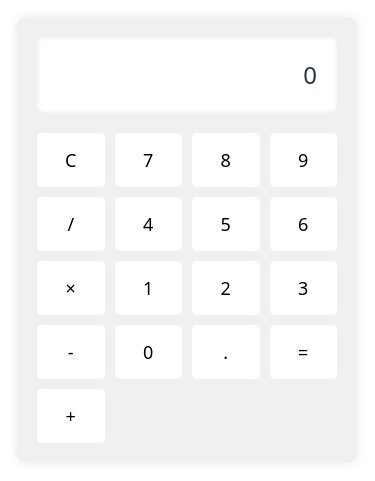
Test case: Calculator › clears display when C is clicked
The width and height of the screenshot is (375, 481).
Click the button with test id "digit-5". click: (226, 224)
box: [192, 197, 260, 251]
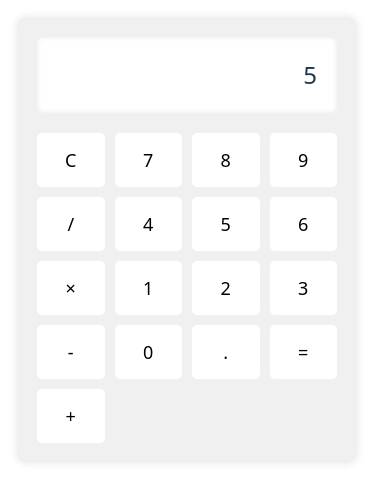
Click the button with test id "digit-5". click: (226, 224)
box: [192, 197, 260, 251]
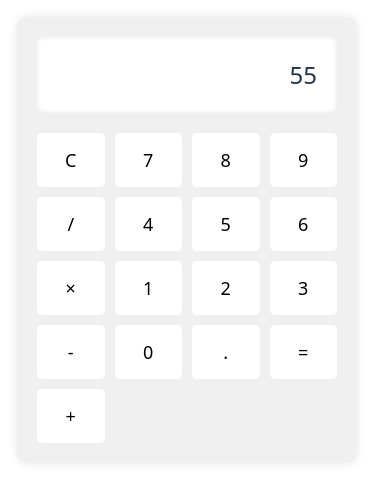
Click the button with test id "clear". click: (71, 160)
box: [37, 133, 104, 187]
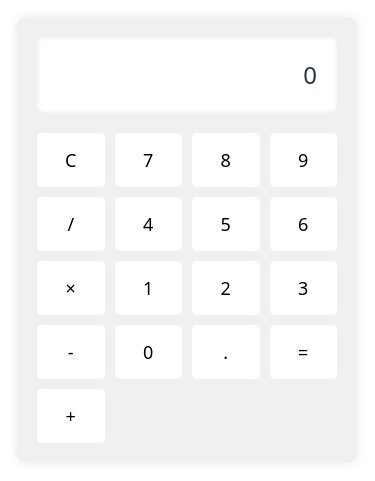
Now the text with test id "display" reads "0", box [303, 58, 317, 91]
